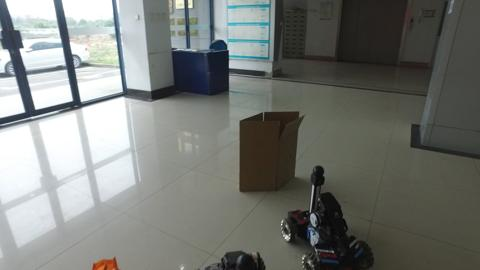box: (238, 104, 298, 187)
chariot: (281, 166, 374, 270)
